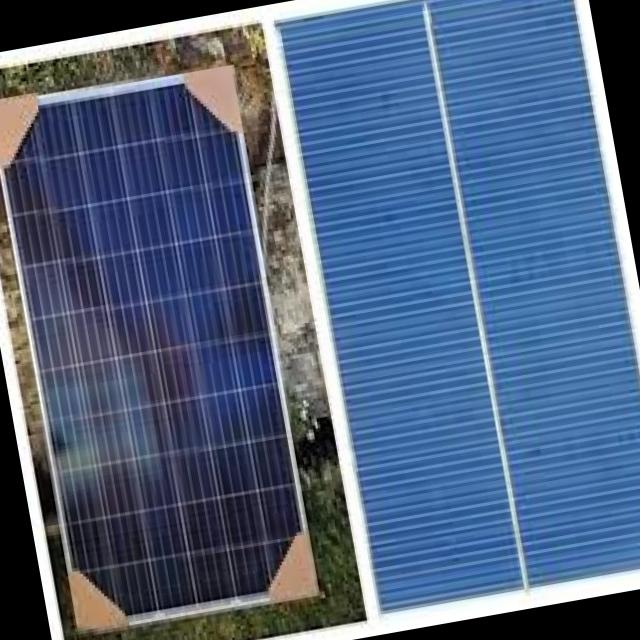no faulty: (282, 0, 640, 615), (0, 70, 311, 629)
